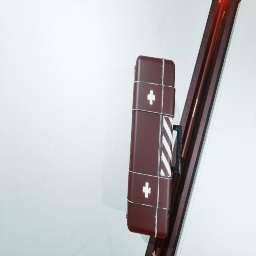FirstAidBox ,: (126, 55, 183, 238)
